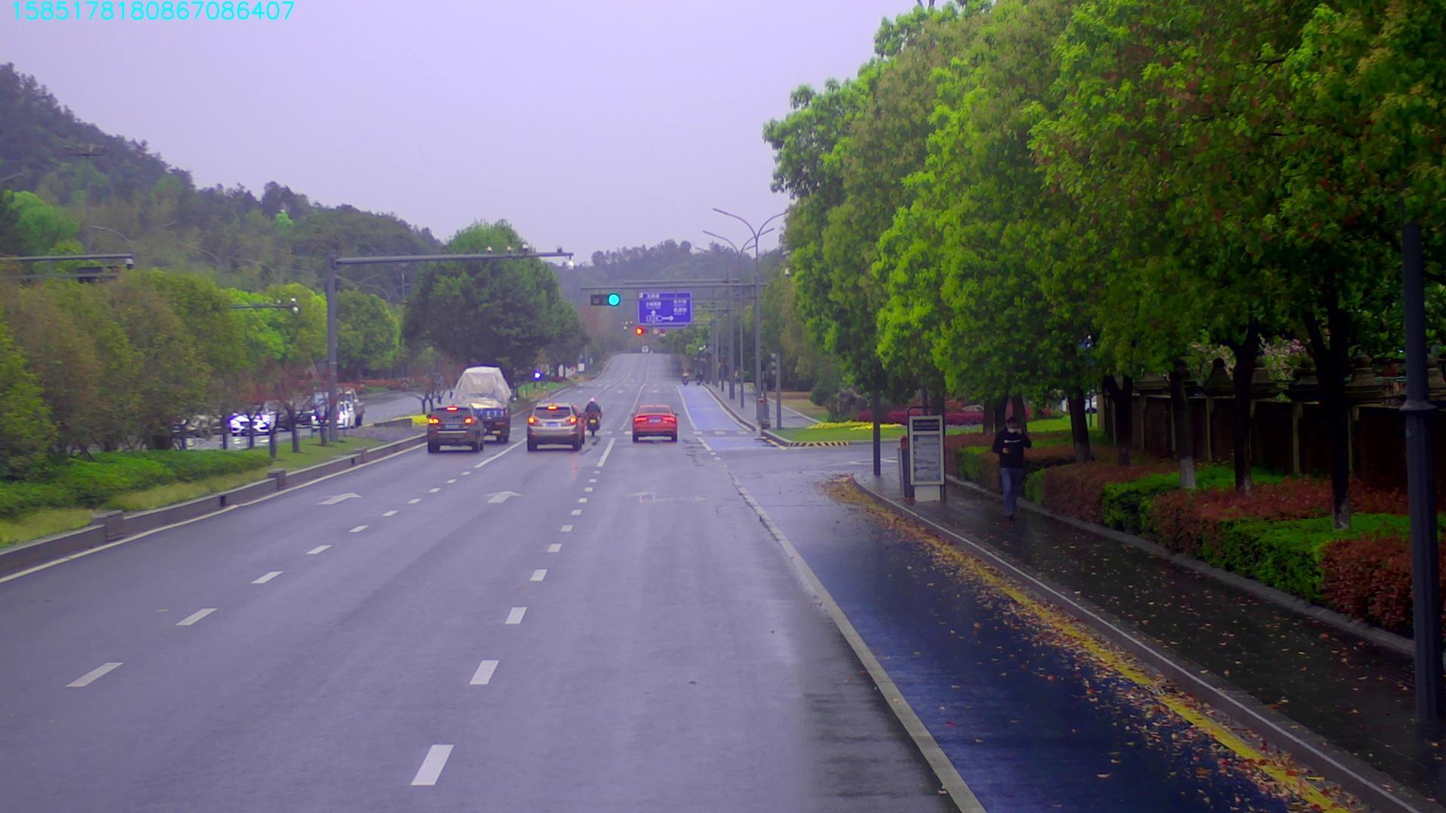green: (590, 291, 622, 306)
